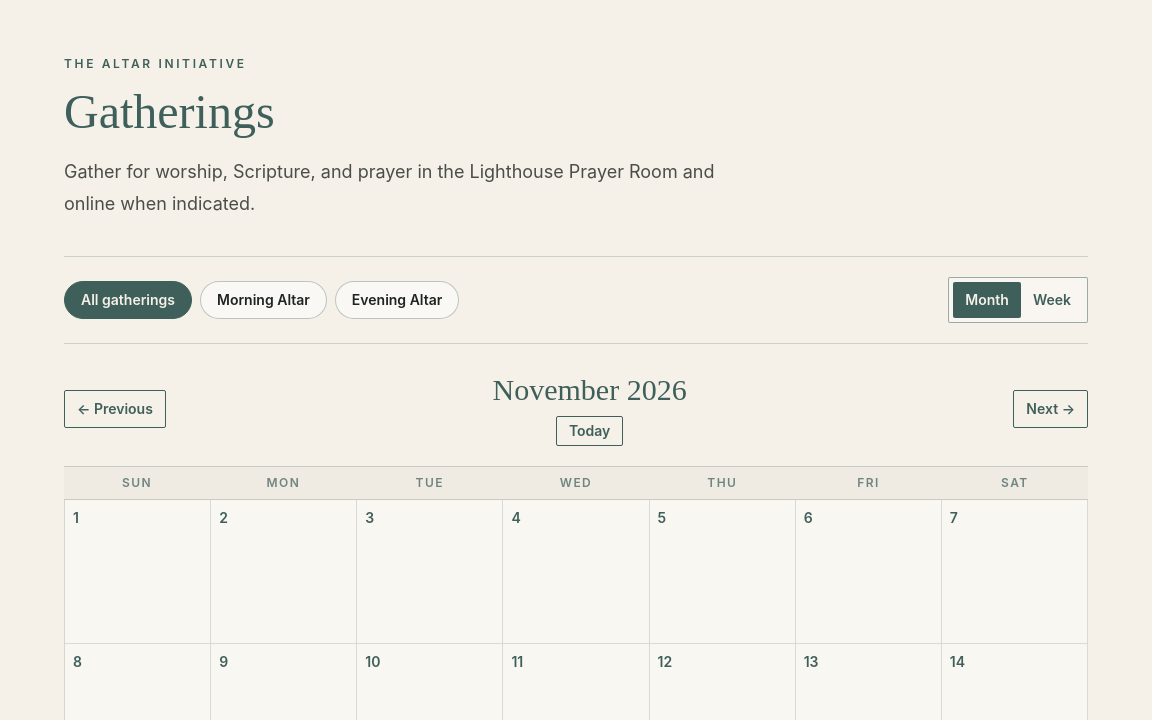
Test case: advances current views across midnight and preserves deliberate browsing until Today
Expected: the heading "November 2026" is shown, [492,372,687,408]
Click the button with aria-label "Previous month". click: coordinates (115, 409)
box: [64,390,166,428]
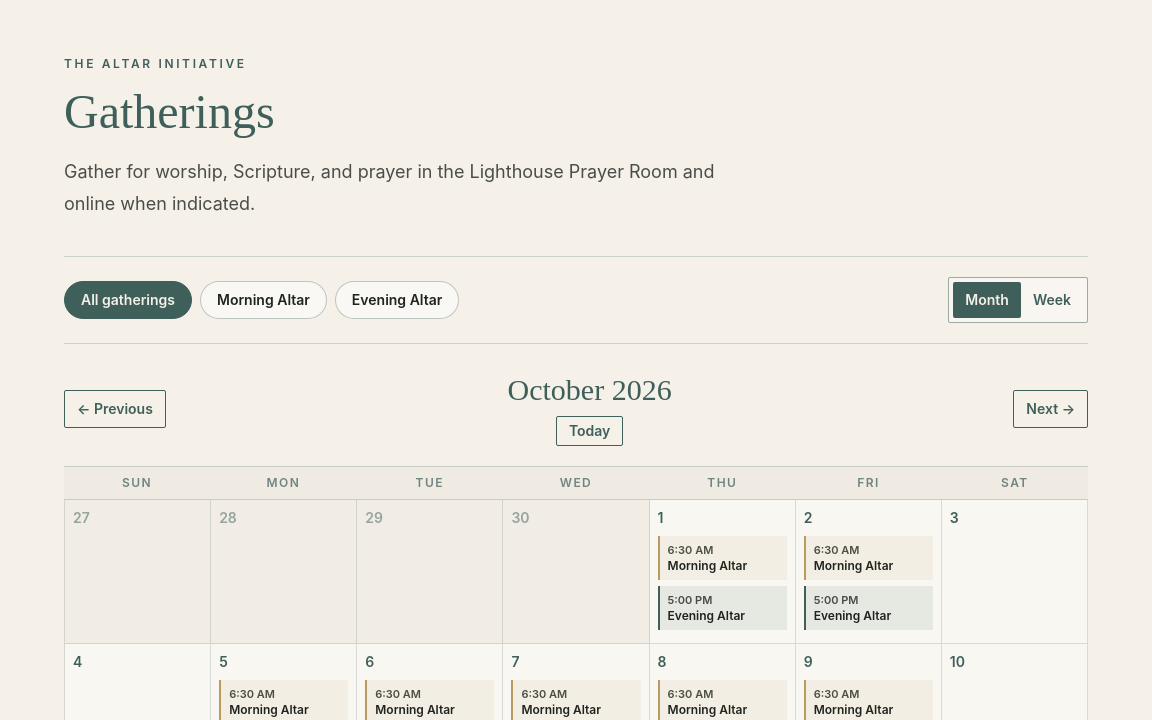
Expected: the heading "October 2026" is shown, [508,372,672,408]
Click the button "Today". click: coordinates (590, 431)
box: [556,416,623,446]
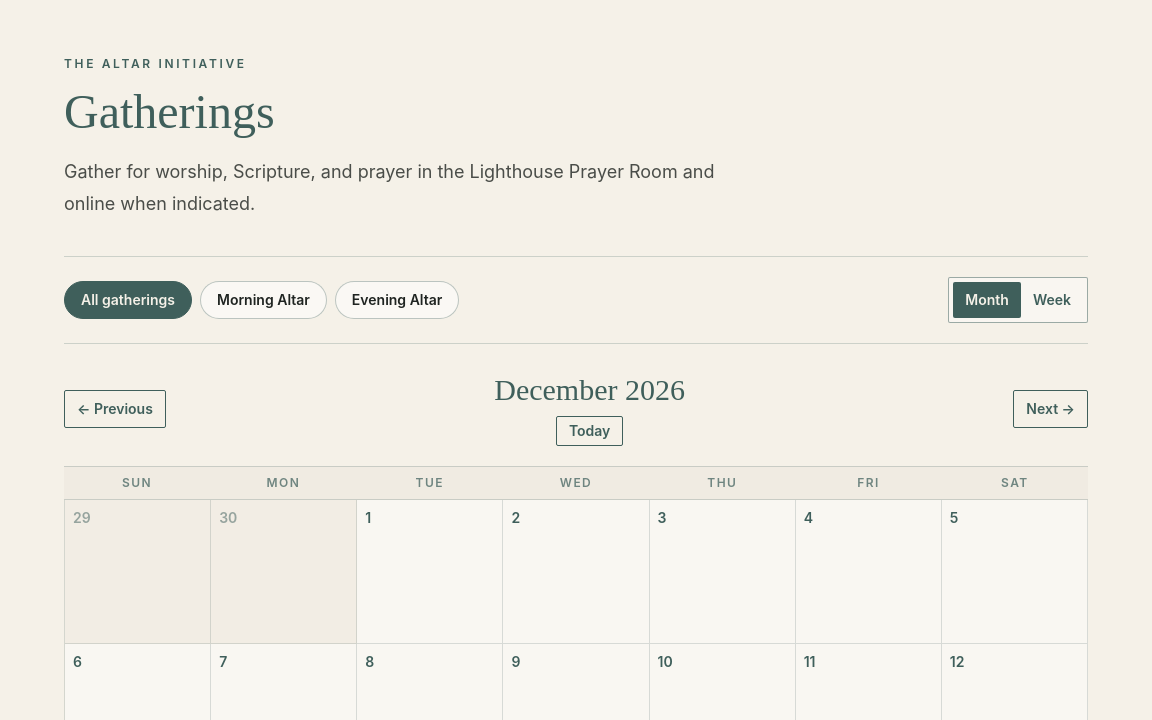
Expected: the heading "December 2026" is shown, [494,372,685,408]
